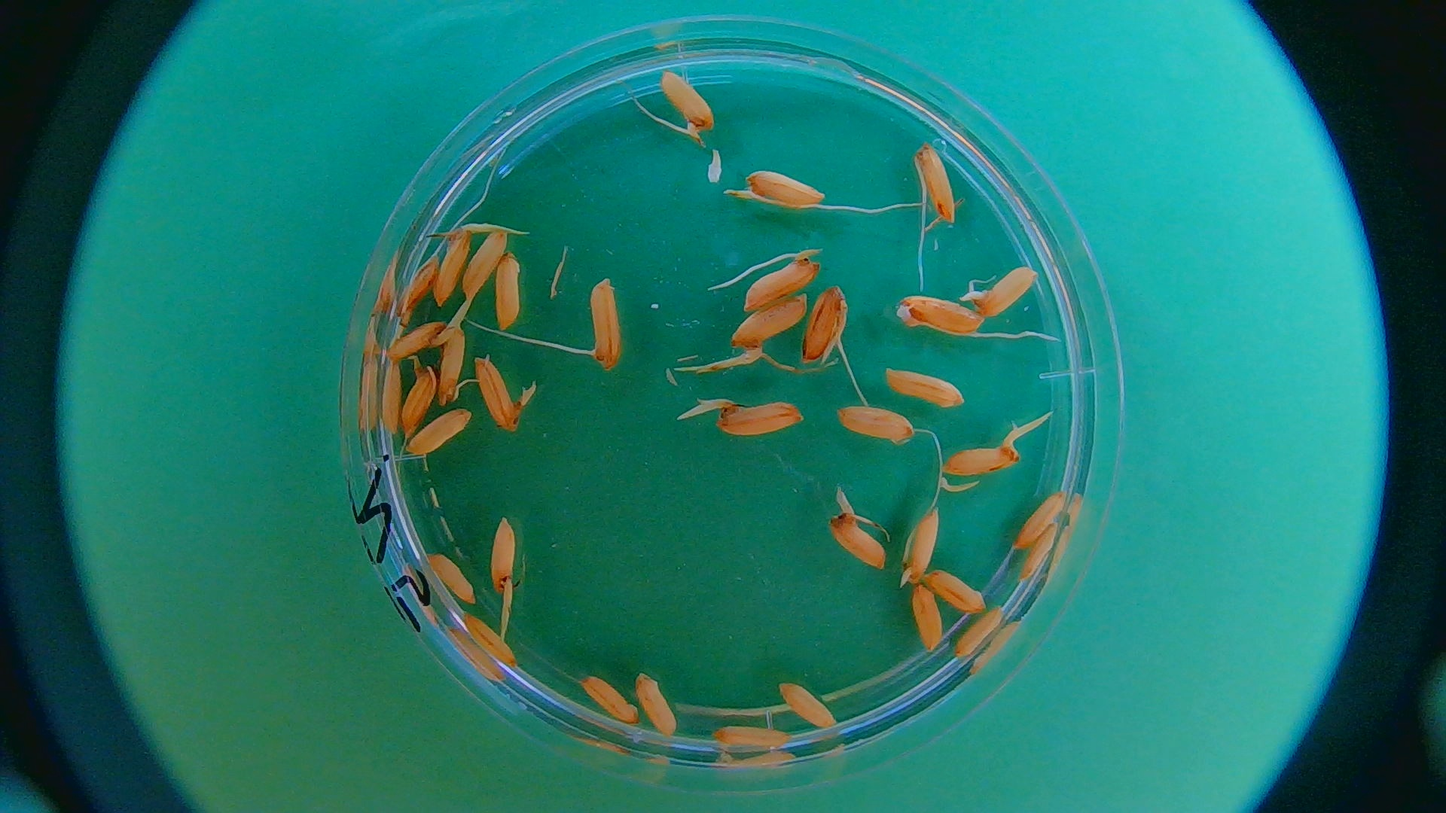no: (709, 717, 805, 767), (837, 395, 926, 448), (918, 551, 988, 615), (883, 361, 969, 413), (574, 668, 642, 730), (901, 582, 951, 658), (636, 665, 684, 744), (397, 353, 439, 442), (462, 228, 511, 303), (402, 407, 471, 460), (462, 614, 528, 669), (426, 543, 480, 607), (900, 498, 941, 582), (1011, 489, 1066, 550), (777, 679, 840, 731), (493, 252, 531, 335), (397, 254, 437, 324), (1023, 520, 1060, 593), (375, 358, 407, 437)
yes: (733, 247, 819, 311), (729, 292, 813, 352), (912, 142, 962, 231), (825, 507, 893, 572), (894, 295, 984, 343), (710, 397, 806, 440), (800, 282, 848, 367), (967, 266, 1036, 322), (938, 431, 1025, 475), (665, 64, 718, 133), (590, 276, 628, 370), (472, 358, 523, 427), (434, 224, 474, 309), (746, 166, 827, 207), (383, 319, 455, 363), (435, 320, 469, 410), (487, 515, 522, 598)
